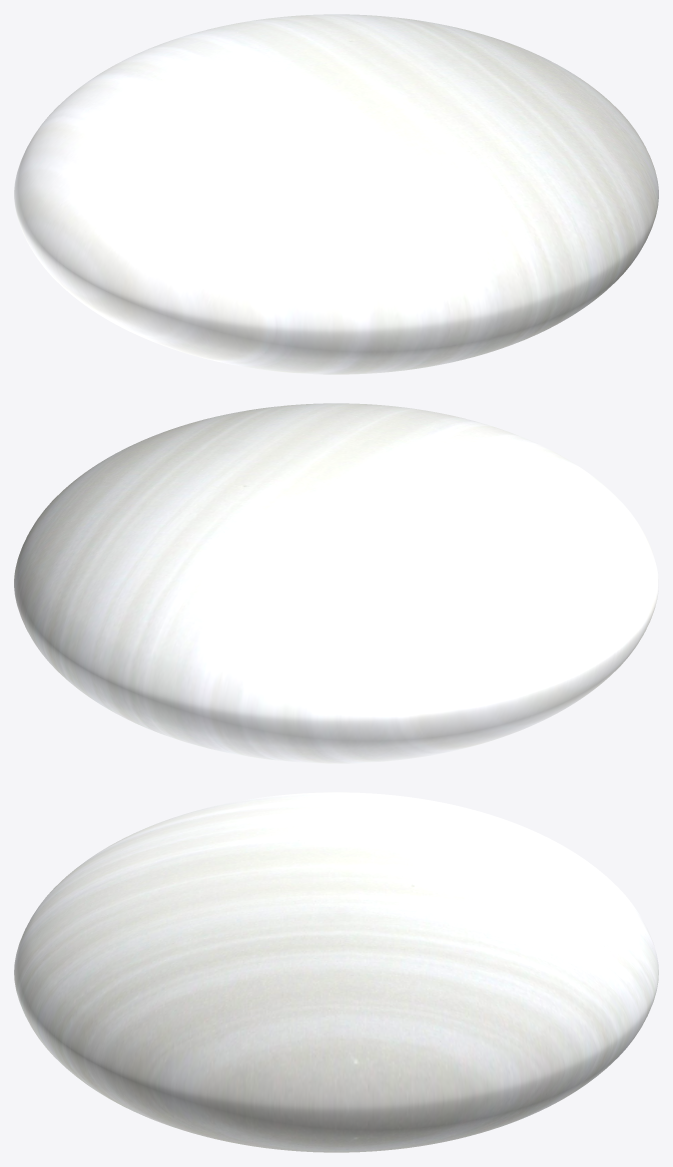
The model's file is white.glb.
The picture shows the model from 3 angles, top to bottom: view 1: azimuth 30°, elevation 25°; view 2: azimuth 150°, elevation 25°; view 3: azimuth 270°, elevation 25°; orthographic projection.
Visible parts, largest first — view 1: clamshell-white-photo-preview; view 2: clamshell-white-photo-preview; view 3: clamshell-white-photo-preview.
Boxes of the visible parts, x1=… form: clamshell-white-photo-preview: x1=14, y1=14, x2=658, y2=374; clamshell-white-photo-preview: x1=14, y1=403, x2=658, y2=763; clamshell-white-photo-preview: x1=14, y1=792, x2=658, y2=1152.
Bounding box in the file's own units: 0.0219 × 0.0088 × 0.0219.
1 material, 1 textured.
